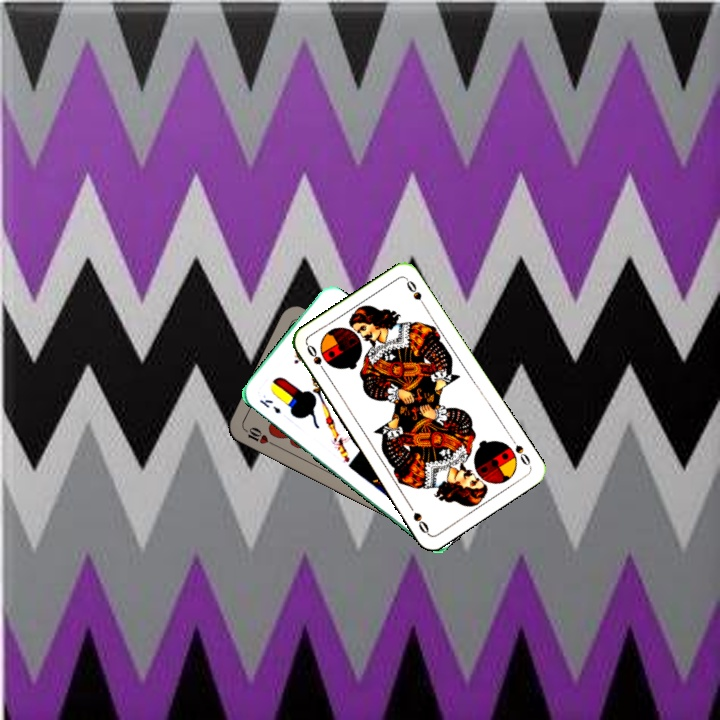EK: (256, 395, 284, 416)
H10: (239, 423, 277, 448)
SO: (303, 340, 330, 377), (506, 433, 533, 469)
